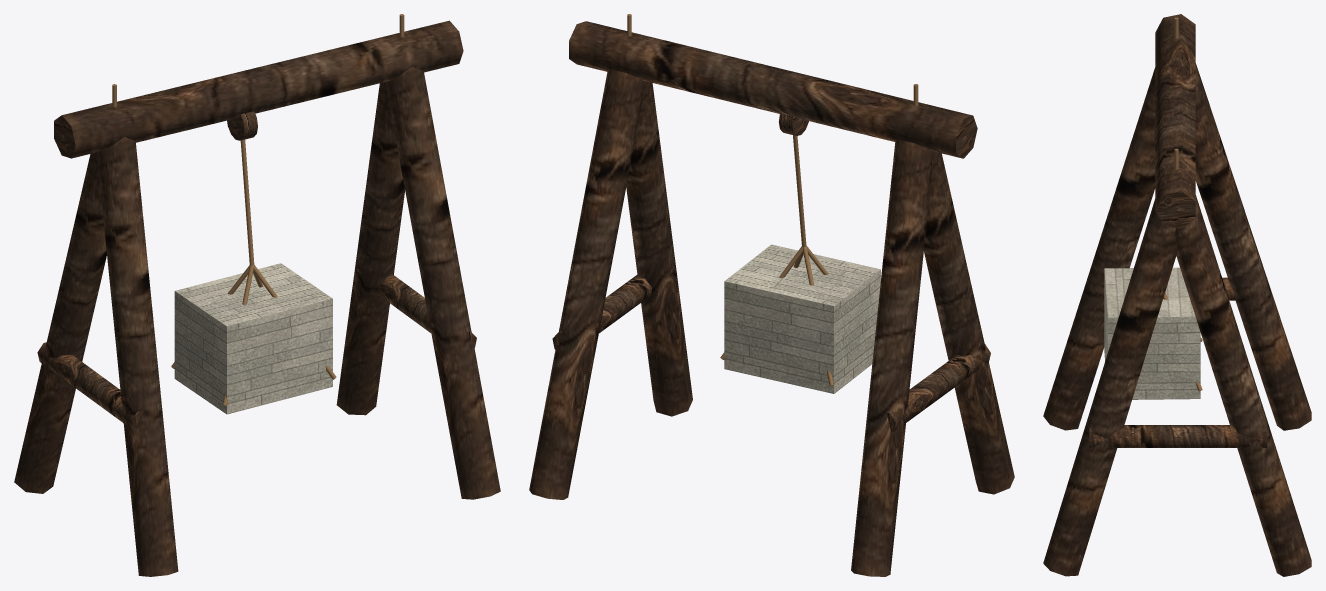
File: bronzeCrane.glb
3 views of the same model, side by side, from view 1: azimuth 30°, elevation 25°; view 2: azimuth 150°, elevation 25°; view 3: azimuth 270°, elevation 25° (orthographic). The views are drawn at different scales.
Visible parts, largest first — view 1: part_0, part_2, part_1; view 2: part_0, part_2, part_1; view 3: part_0, part_2.
Part boxes in pixels (left/top/right/bottom): part_0: left=14, top=20, right=500, bottom=576; part_2: left=174, top=263, right=332, bottom=414; part_1: left=112, top=14, right=404, bottom=405; part_0: left=529, top=21, right=1014, bottom=576; part_2: left=724, top=244, right=880, bottom=393; part_1: left=627, top=14, right=918, bottom=385; part_0: left=1043, top=14, right=1311, bottom=576; part_2: left=1104, top=267, right=1200, bottom=399.
Size of the model in its own units: 2.26 by 2.47 by 1.45.
Materials: 3 (2 with a texture image).
